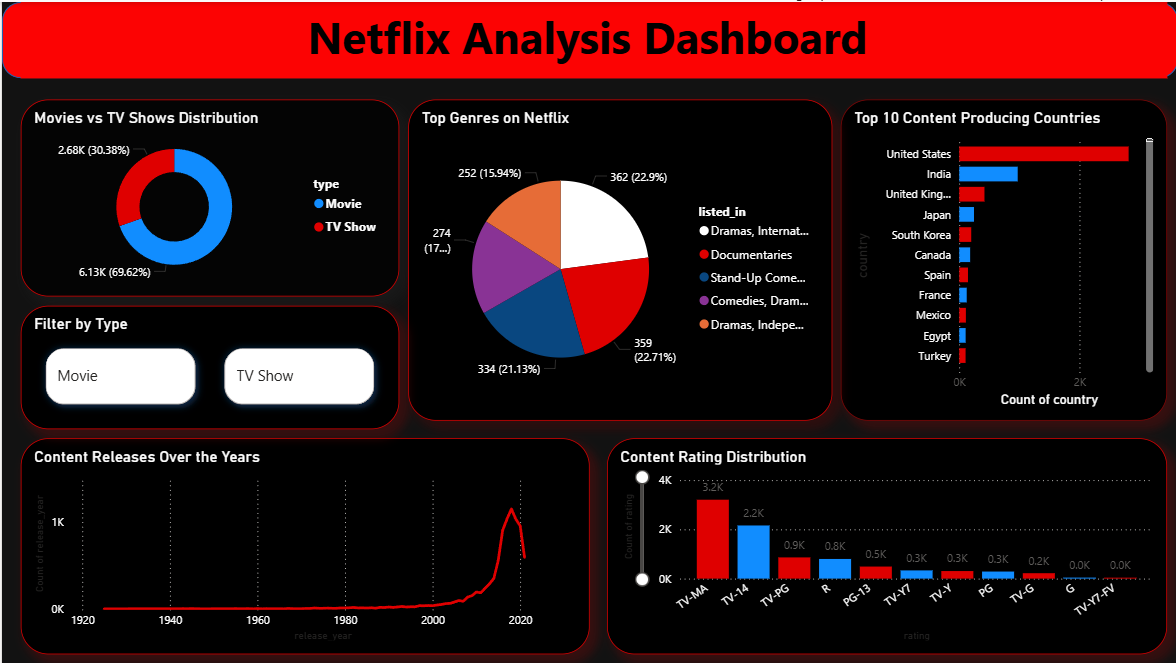

What the dashboard file says about the page in this screenshot:
{"tool":"powerbi","page":{"name":"Page 1","canvas":[1280,720],"ordinal":0},"visuals":[{"type":"donutChart","title":"Movies vs TV Shows Distribution","fields":{"Category":["netflix_titles.type"],"Y":["CountNonNull(netflix_titles.type)"]},"box":[20.6,105.7,411.7,214.1],"z":0},{"type":"clusteredBarChart","title":"Top 10 Content Producing Countries","fields":{"Category":["netflix_titles.country"],"Y":["CountNonNull(netflix_titles.country)"]},"box":[912.9,106.1,355.1,349.7],"z":1000},{"type":"lineChart","title":"Content Releases Over the Years","fields":{"Category":["netflix_titles.release_year"],"Y":["CountNonNull(netflix_titles.release_year)"]},"box":[20.4,474.8,619,235.4],"z":2000},{"type":"clusteredColumnChart","title":"Content Rating Distribution","fields":{"Category":["netflix_titles.rating"],"Y":["CountNonNull(netflix_titles.rating)"]},"box":[658.5,474.8,609.5,235.4],"z":3000},{"type":"pieChart","title":"Top Genres on Netflix","fields":{"Category":["netflix_titles.listed_in"],"Y":["CountNonNull(netflix_titles.listed_in)"]},"box":[442.2,106.1,461.2,349.7],"z":4000},{"type":"advancedSlicerVisual","title":"Filter by Type","fields":{"Values":["netflix_titles.type"]},"box":[20.4,330.6,412.2,134.7],"z":5000},{"type":"shape","box":[0,0,1280.3,83],"z":6000},{"type":"textbox","box":[20.4,0,1247.6,83],"z":7000}]}

Visuals, with their boxes in screenshot pixels (x1, y1, x2, y2), scaled from the page's 1280x720 canvas onto the 1176x663 screenshot:
"Movies vs TV Shows Distribution" donutChart: BBox(19, 97, 397, 294)
"Top 10 Content Producing Countries" clusteredBarChart: BBox(839, 98, 1165, 420)
"Content Releases Over the Years" lineChart: BBox(19, 437, 587, 654)
"Content Rating Distribution" clusteredColumnChart: BBox(605, 437, 1165, 654)
"Top Genres on Netflix" pieChart: BBox(406, 98, 830, 420)
"Filter by Type" advancedSlicerVisual: BBox(19, 304, 397, 428)
shape: BBox(0, 0, 1175, 76)
textbox: BBox(19, 0, 1165, 76)
